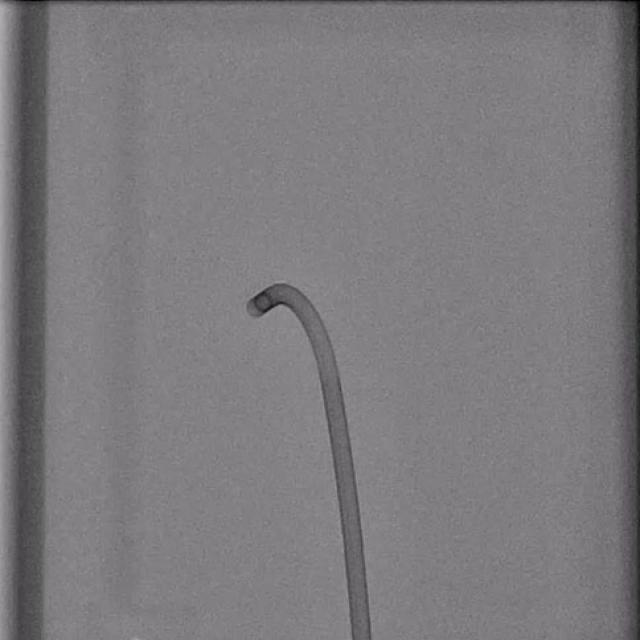bend: (318, 366, 340, 378)
entry: (351, 628, 373, 638)
marker: (253, 291, 276, 311)
tip: (245, 302, 258, 316)
